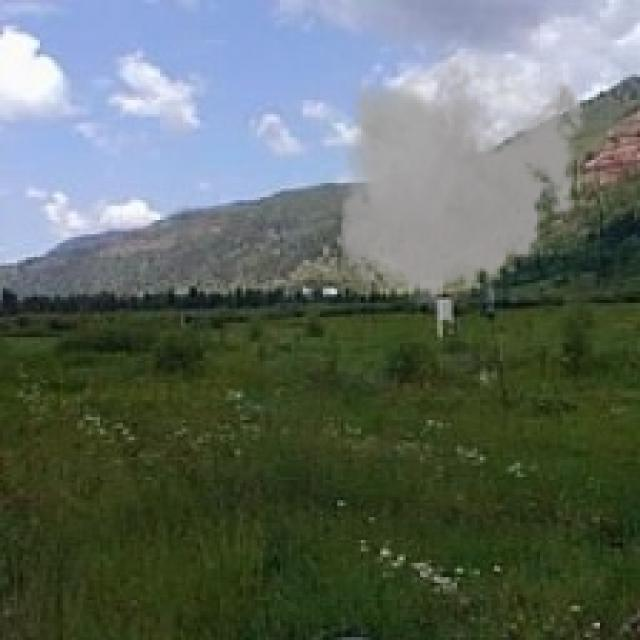smoke: (328, 37, 592, 314)
